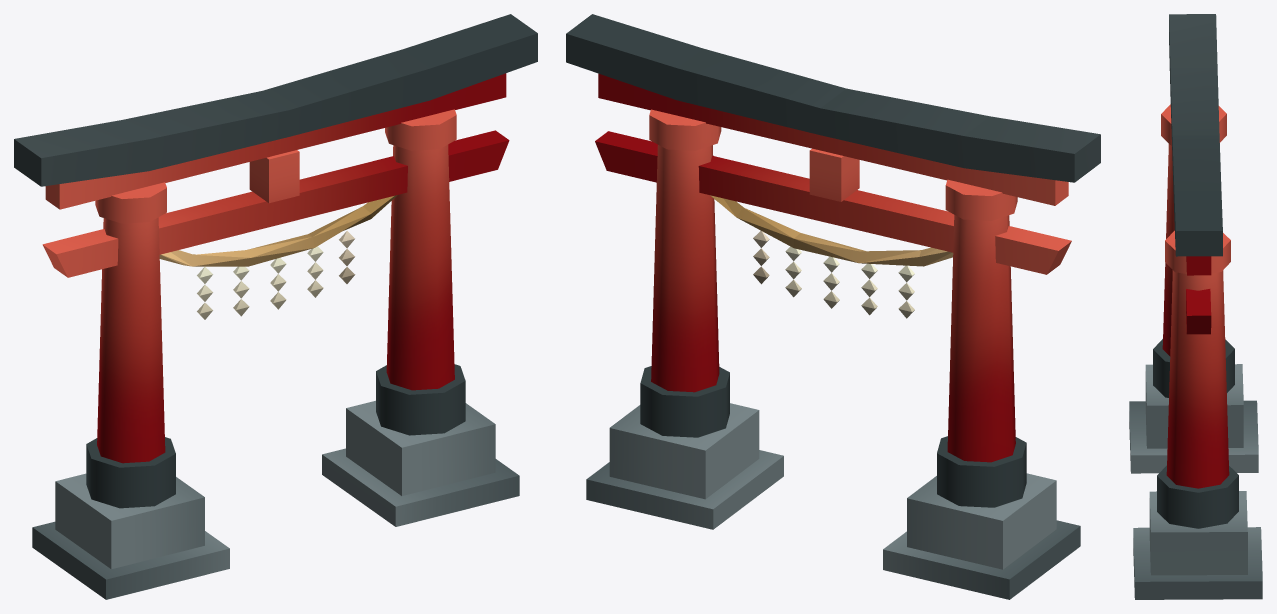
File: ToriGate.fbx
3 renders of one model, left to right at view 1: azimuth 30°, elevation 25°; view 2: azimuth 150°, elevation 25°; view 3: azimuth 270°, elevation 25°, orthographic. The views are drawn at different scales.
Parts seen in each view (by area): view 1: ToriGate.006; view 2: ToriGate.006; view 3: ToriGate.006.
Boxes of the visible parts, x1,y1,x2,y2 form: ToriGate.006: (14,14,537,599); ToriGate.006: (566,14,1100,599); ToriGate.006: (1129,14,1262,599).
Bounding box in the file's own units: 5.15 × 4.28 × 1.34.
1 material, 1 textured.
